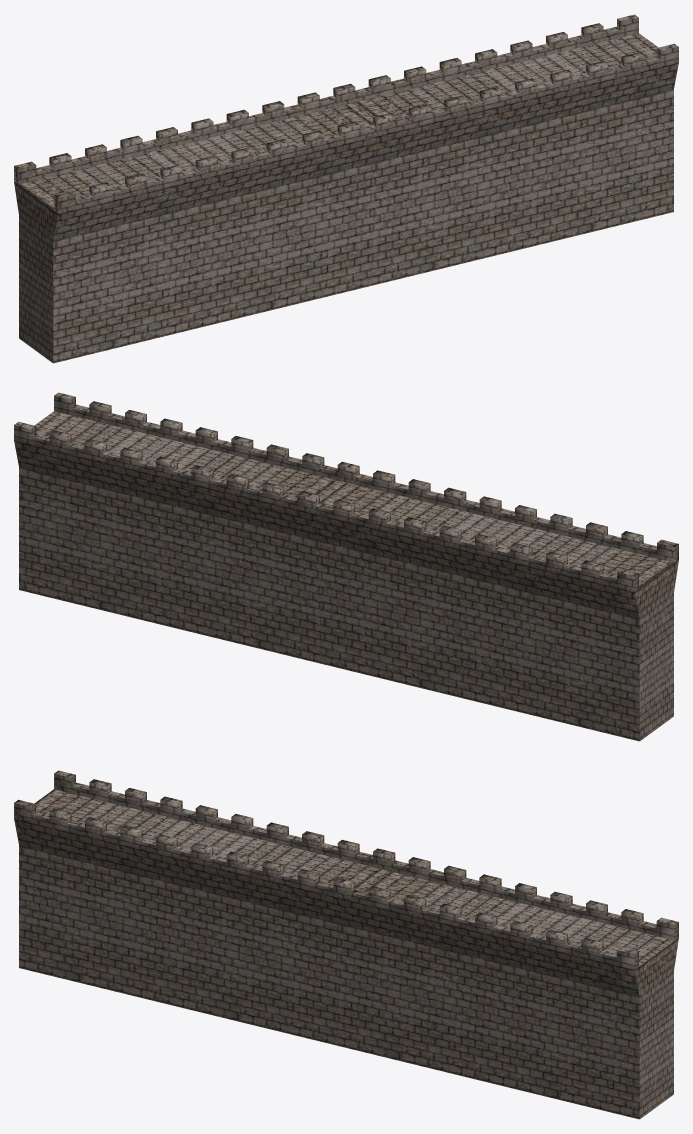
The model's file is castle-wall.glb.
3 renders of one model, top to bottom at view 1: azimuth 30°, elevation 25°; view 2: azimuth 150°, elevation 25°; view 3: azimuth 330°, elevation 25°, orthographic.
Size of the model in its own units: 42 by 10.92 by 5.2.
Materials: 1 (1 with a texture image).
